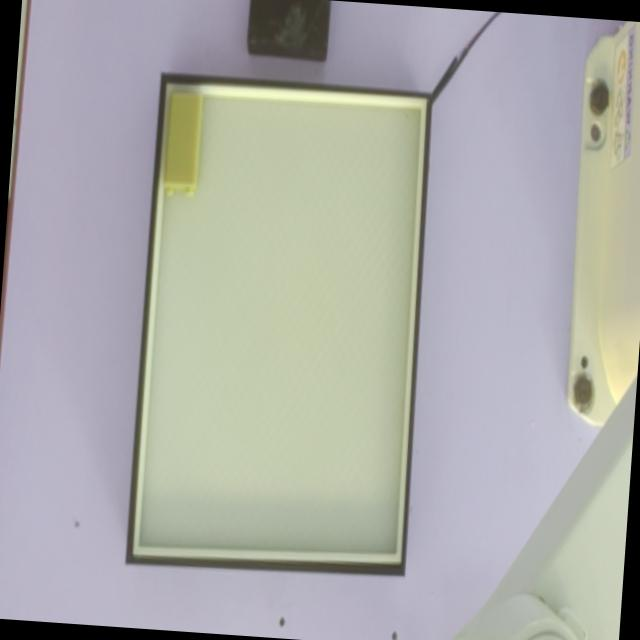bateria: (163, 92, 202, 197)
mesa: (125, 72, 432, 577)
